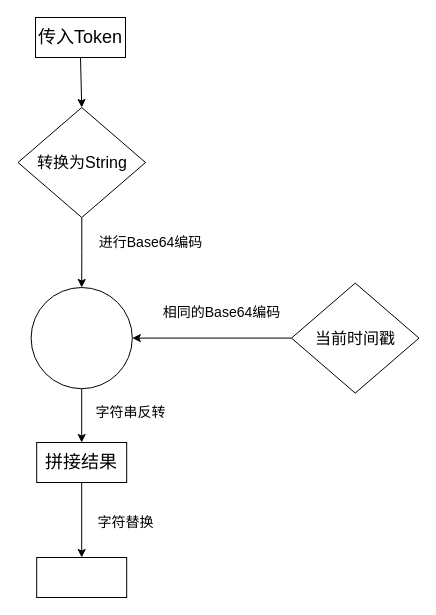
The diagram is 436 pixels wide and 615 high, and some of its shapes have lost their labels. Here are the shapes that lost their labels. From the top down, the centre of each, then its label:
(x=81, y=337): 字符串拼接
(x=81, y=577): 加密结果
